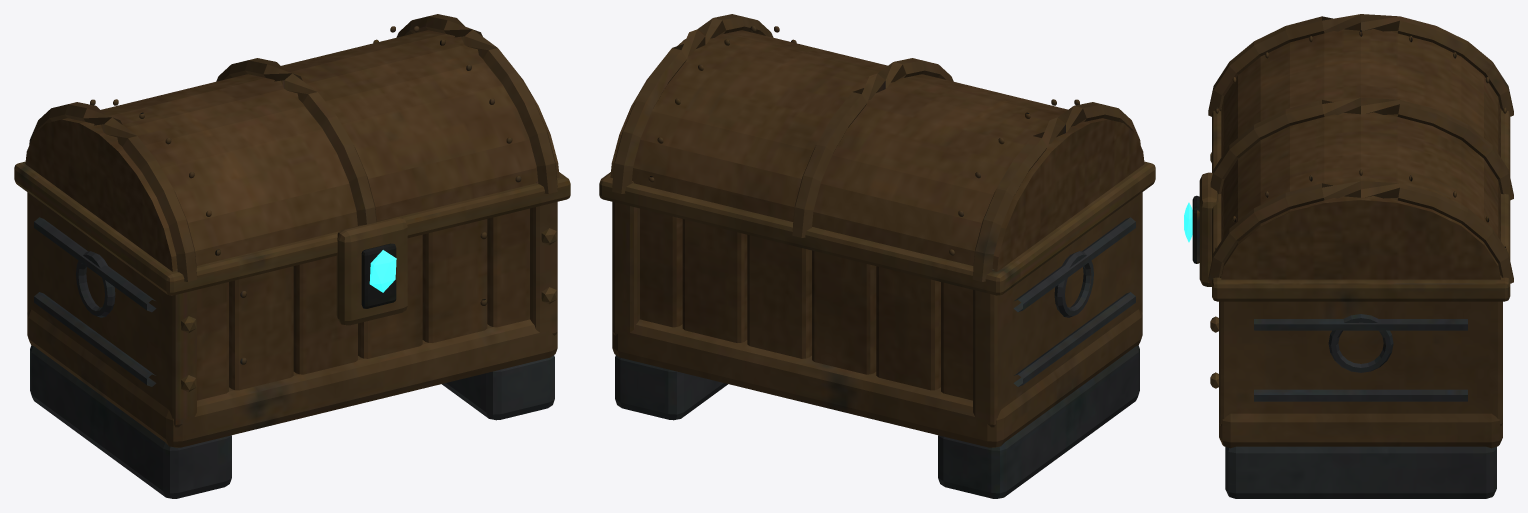
Rendered from chest.glb.
The picture shows the model from 3 angles, left to right: view 1: azimuth 30°, elevation 25°; view 2: azimuth 150°, elevation 25°; view 3: azimuth 270°, elevation 25°; orthographic projection. The views are drawn at different scales.
Parts seen in each view (by area): view 1: Body_Baked.019, Lid_Baked, Body_Glow.003; view 2: Body_Baked.019, Lid_Baked; view 3: Lid_Baked, Body_Baked.019.
Part boxes in pixels (x1,y1,x2,y2): Body_Baked.019: (27, 181, 557, 498); Lid_Baked: (14, 14, 570, 392); Body_Glow.003: (369, 250, 396, 292); Body_Baked.019: (612, 181, 1142, 498); Lid_Baked: (599, 14, 1155, 295); Lid_Baked: (1208, 14, 1513, 388); Body_Baked.019: (1192, 108, 1502, 498).
Size of the model in its own units: 1.08 by 0.845 by 0.8012.
2 materials, 1 textured.
